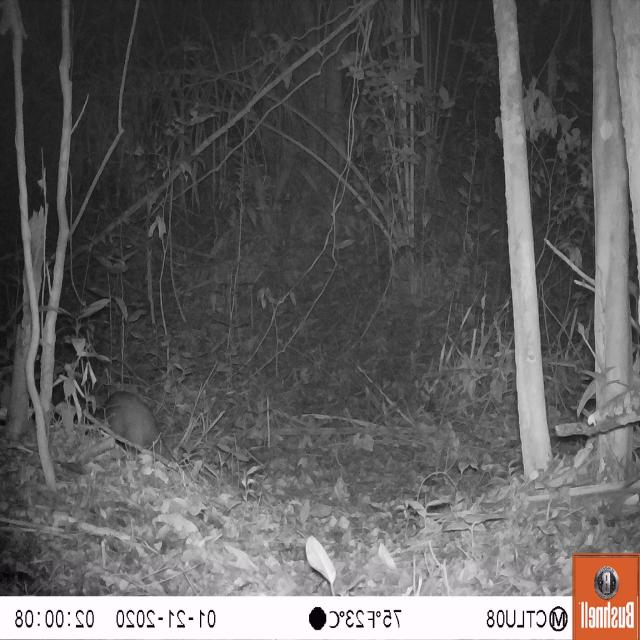Spotted Paca: (91, 384, 167, 469)
